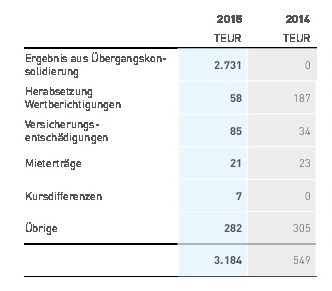table: (0, 0, 332, 291)
